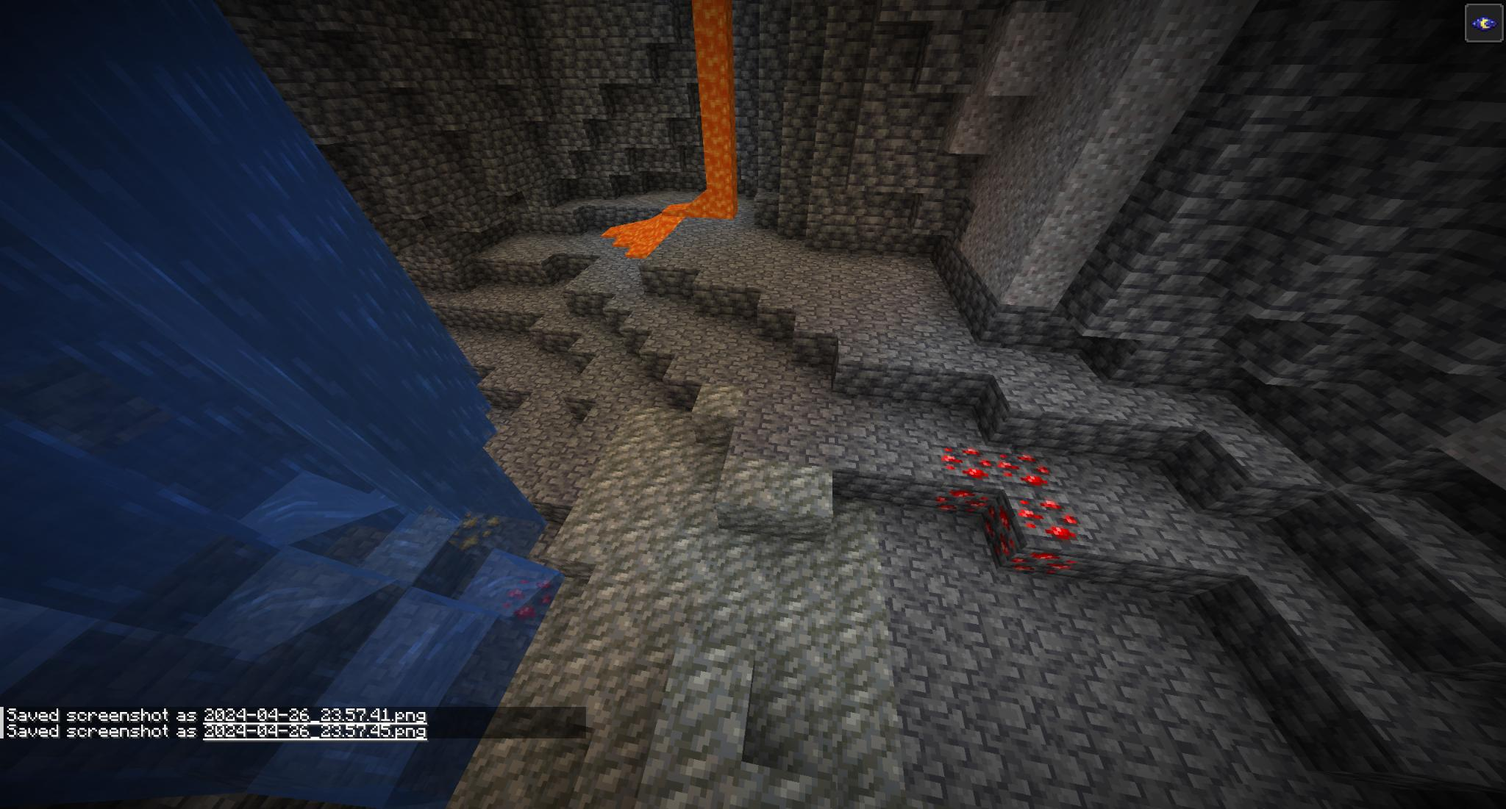redstone ore: (988, 493, 1079, 570), (930, 438, 989, 515), (990, 442, 1054, 495)
